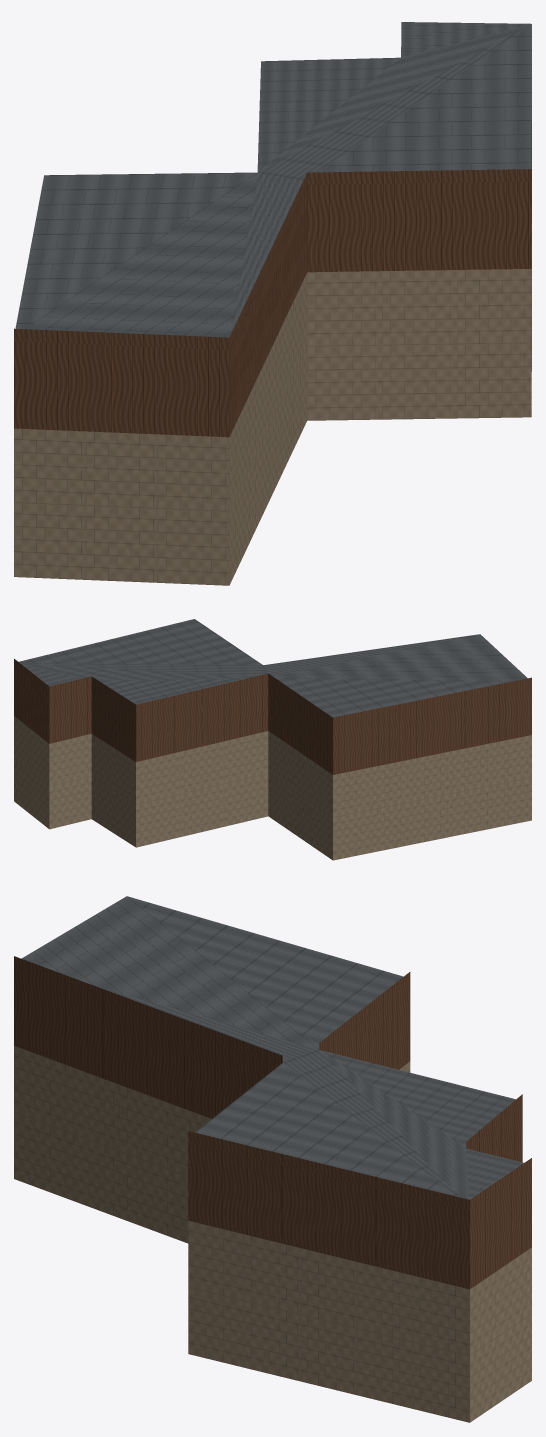
The model's file is bld_c27_-54_550.gltf.
3 renders of one model, top to bottom at view 1: azimuth 30°, elevation 25°; view 2: azimuth 150°, elevation 25°; view 3: azimuth 270°, elevation 25°, orthographic. The views are drawn at different scales.
Parts seen in each view (by area): view 1: bld_c27_-54_550; view 2: bld_c27_-54_550; view 3: bld_c27_-54_550.
Boxes of the visible parts, x1,y1,x2,y2 form: bld_c27_-54_550: (14, 22, 531, 585); bld_c27_-54_550: (14, 619, 531, 860); bld_c27_-54_550: (14, 896, 531, 1422).
Size of the model in its own units: 22.95 by 7.68 by 16.17.
4 materials, 4 textured.
